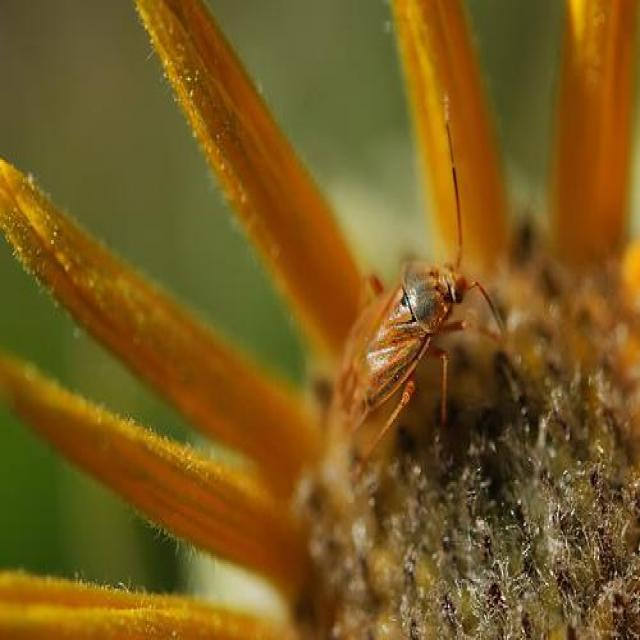Miridae-Adult-: (326, 90, 504, 476)
